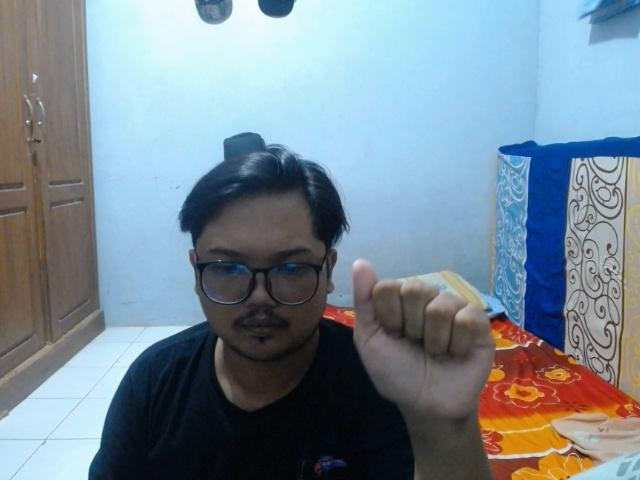Grab: (350, 252, 503, 423)
